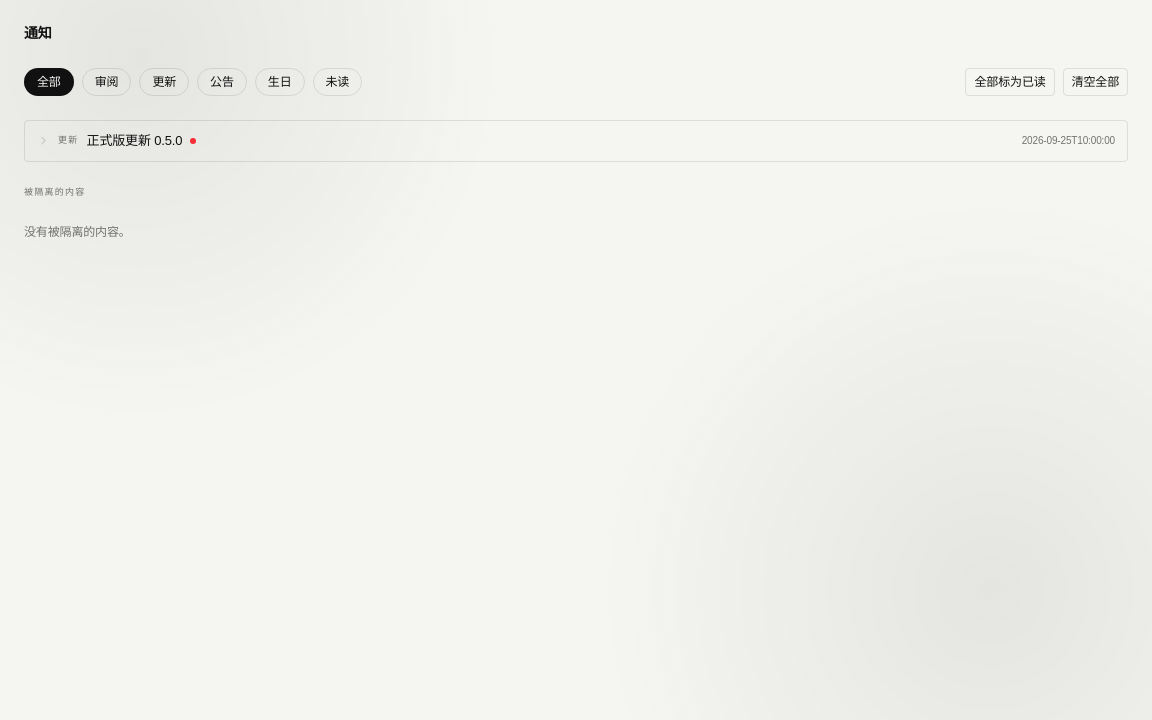
Notifications updates › disables the update button when the version is not newer
Click the text "正式版更新 0.5.0": [134, 141] box [86, 131, 182, 150]
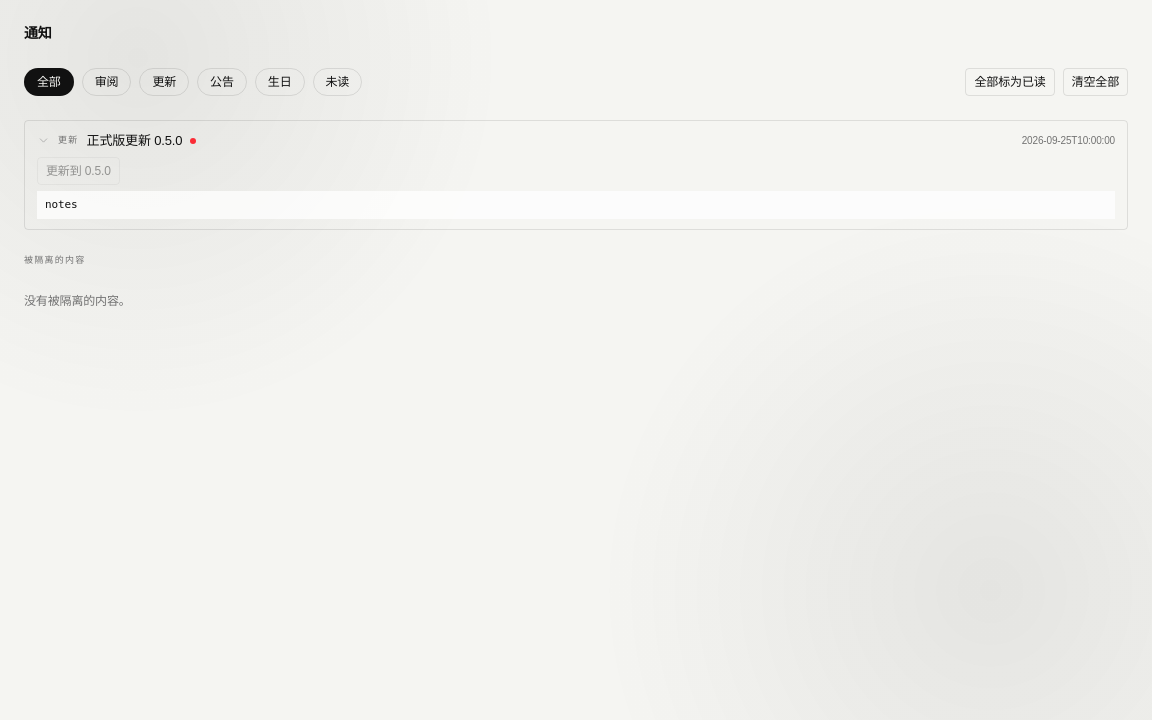
Now the button with test id "update-11" is disabled, box [37, 156, 120, 184]
